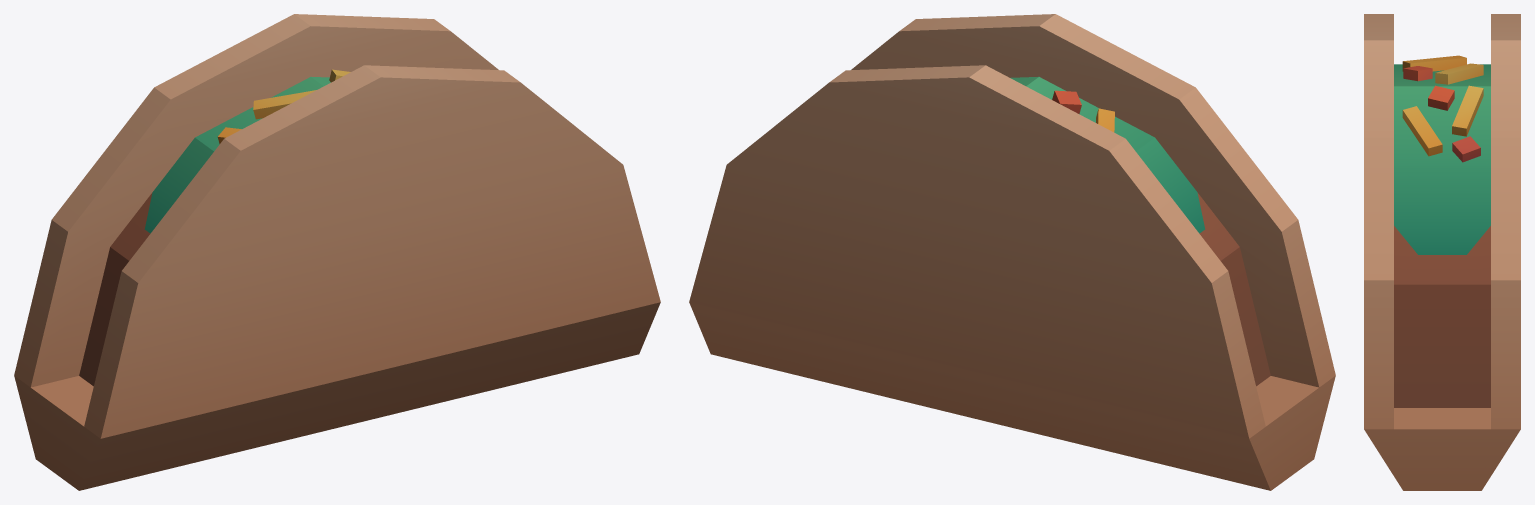
File: taco.glb
3 renders of one model, left to right at view 1: azimuth 30°, elevation 25°; view 2: azimuth 150°, elevation 25°; view 3: azimuth 270°, elevation 25°, orthographic. The views are drawn at different scales.
Visible parts, largest first — view 1: geometry_0; view 2: geometry_0; view 3: geometry_0.
Part boxes in pixels (x1=…): geometry_0: x1=14, y1=14, x2=660, y2=490; geometry_0: x1=689, y1=14, x2=1335, y2=490; geometry_0: x1=1364, y1=14, x2=1520, y2=490.
Bounding box in the file's own units: 1.07 × 0.6591 × 0.2866.
